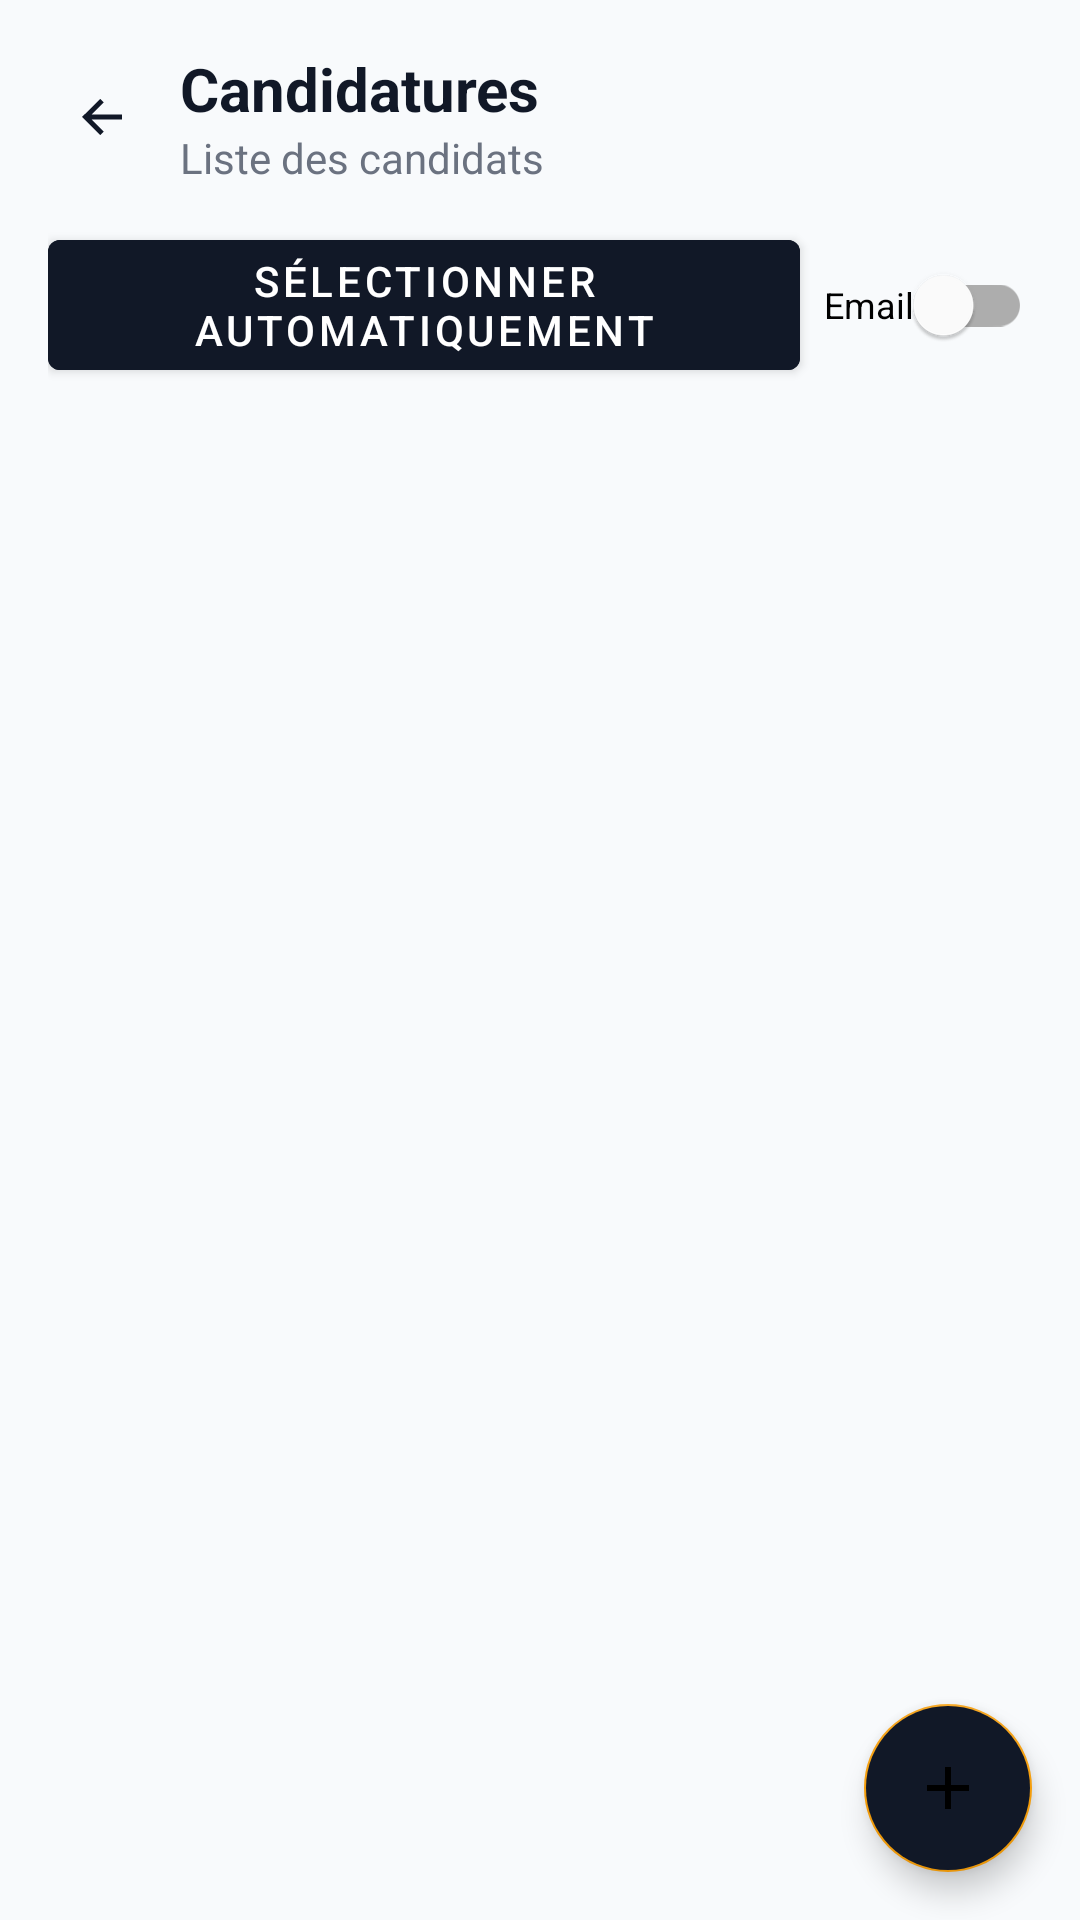

Locate icon controls on the screen. Image size 1080 × 1920, boxes as (x1, y1, x2, y2).
Ajouter: (864, 1704, 1032, 1872)
arrow back: (82, 99, 122, 135)
